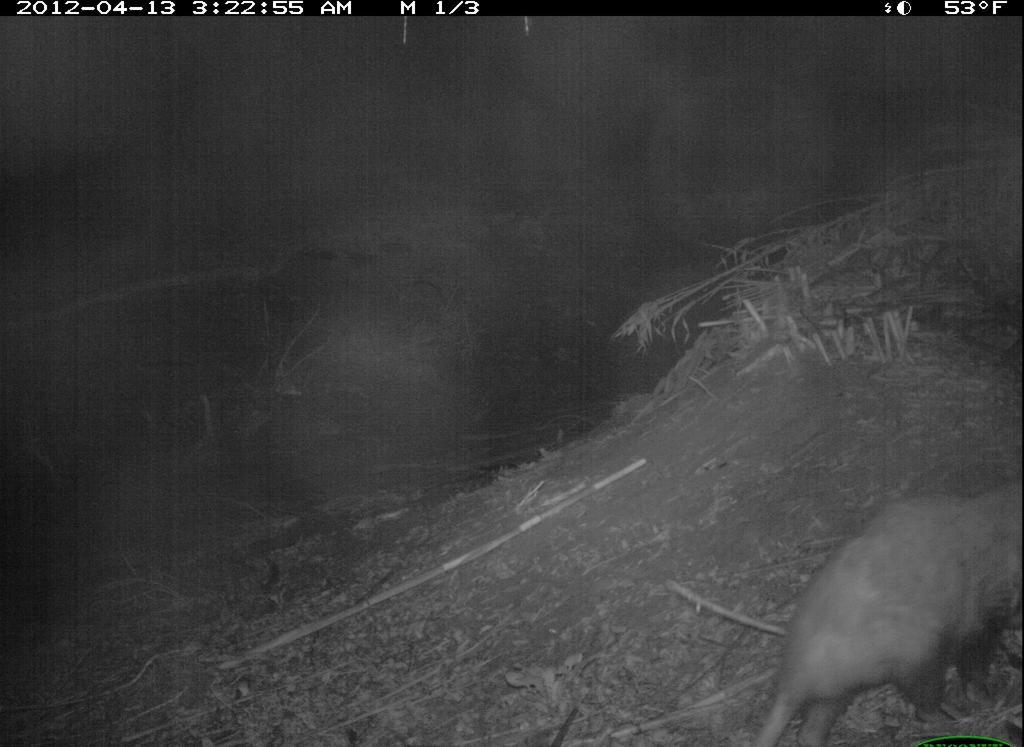opossum: (738, 478, 1024, 747)
